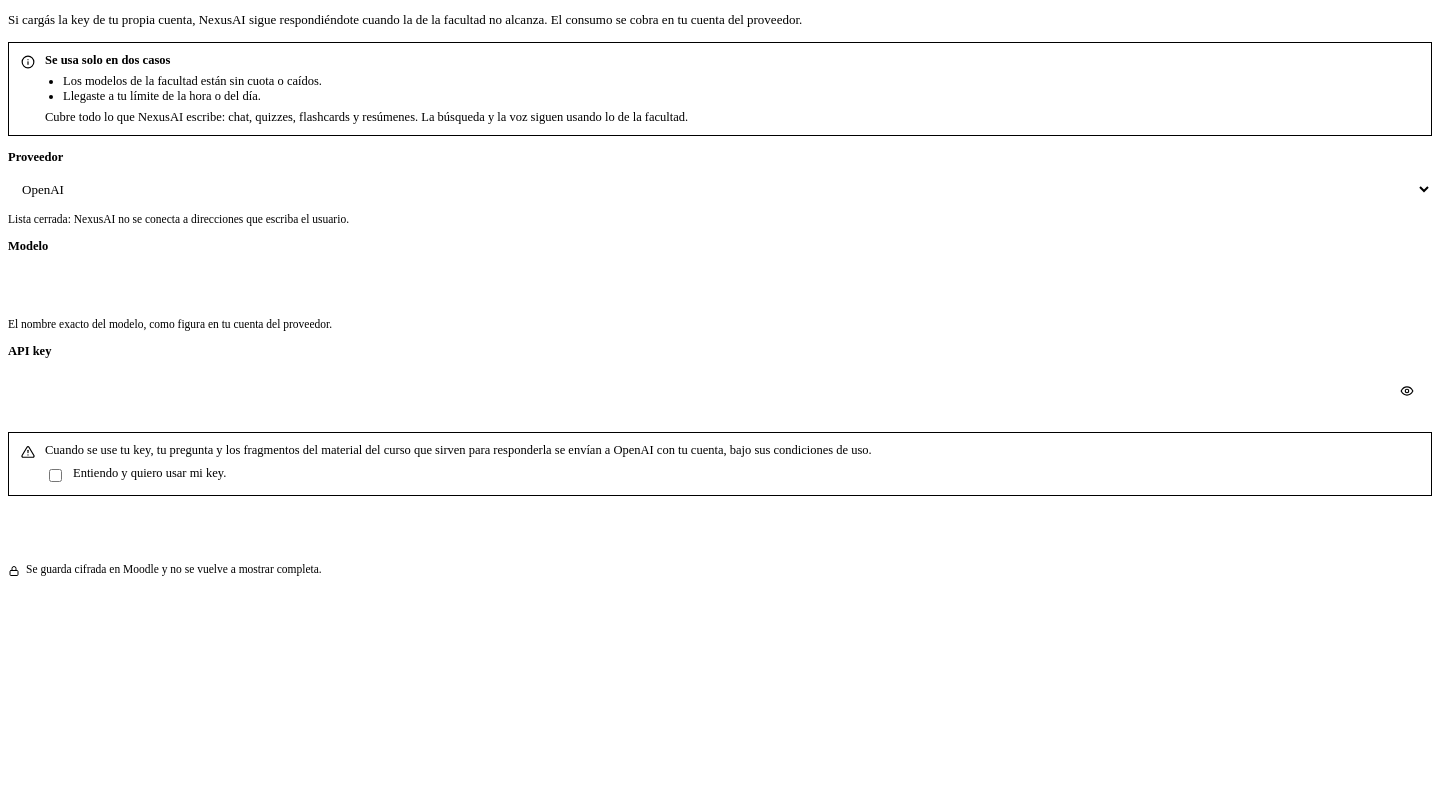
ApiKeyPanel (My API key) › names the chosen provider in the privacy notice
This screenshot has width=1452, height=810.
Select "Anthropic" in the dropdown labelled "Proveedor" at (720, 189), box 8,170 -> 1432,208
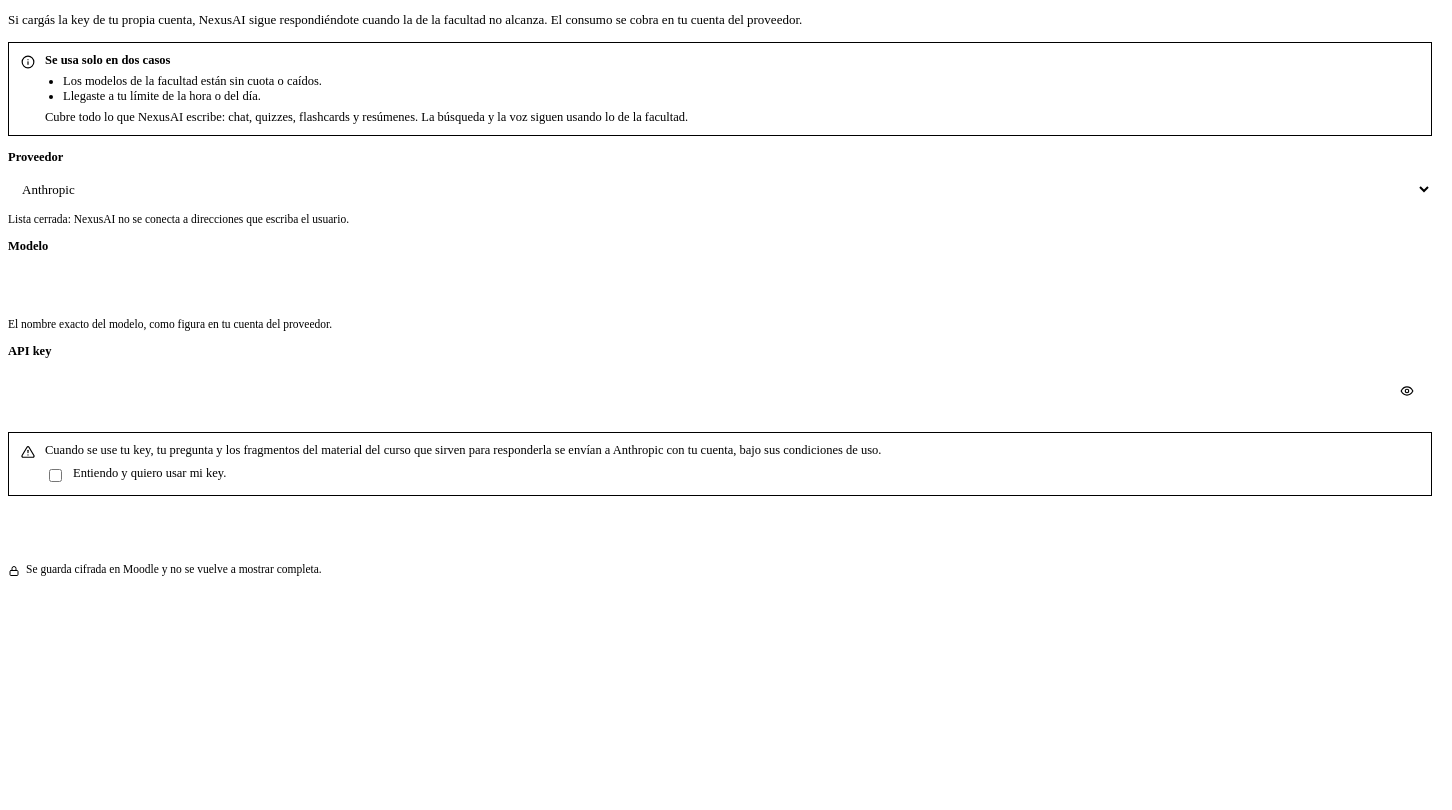
Now the text "se envían a Anthropic con tu cuenta" is shown, box 45,443 -> 882,457
